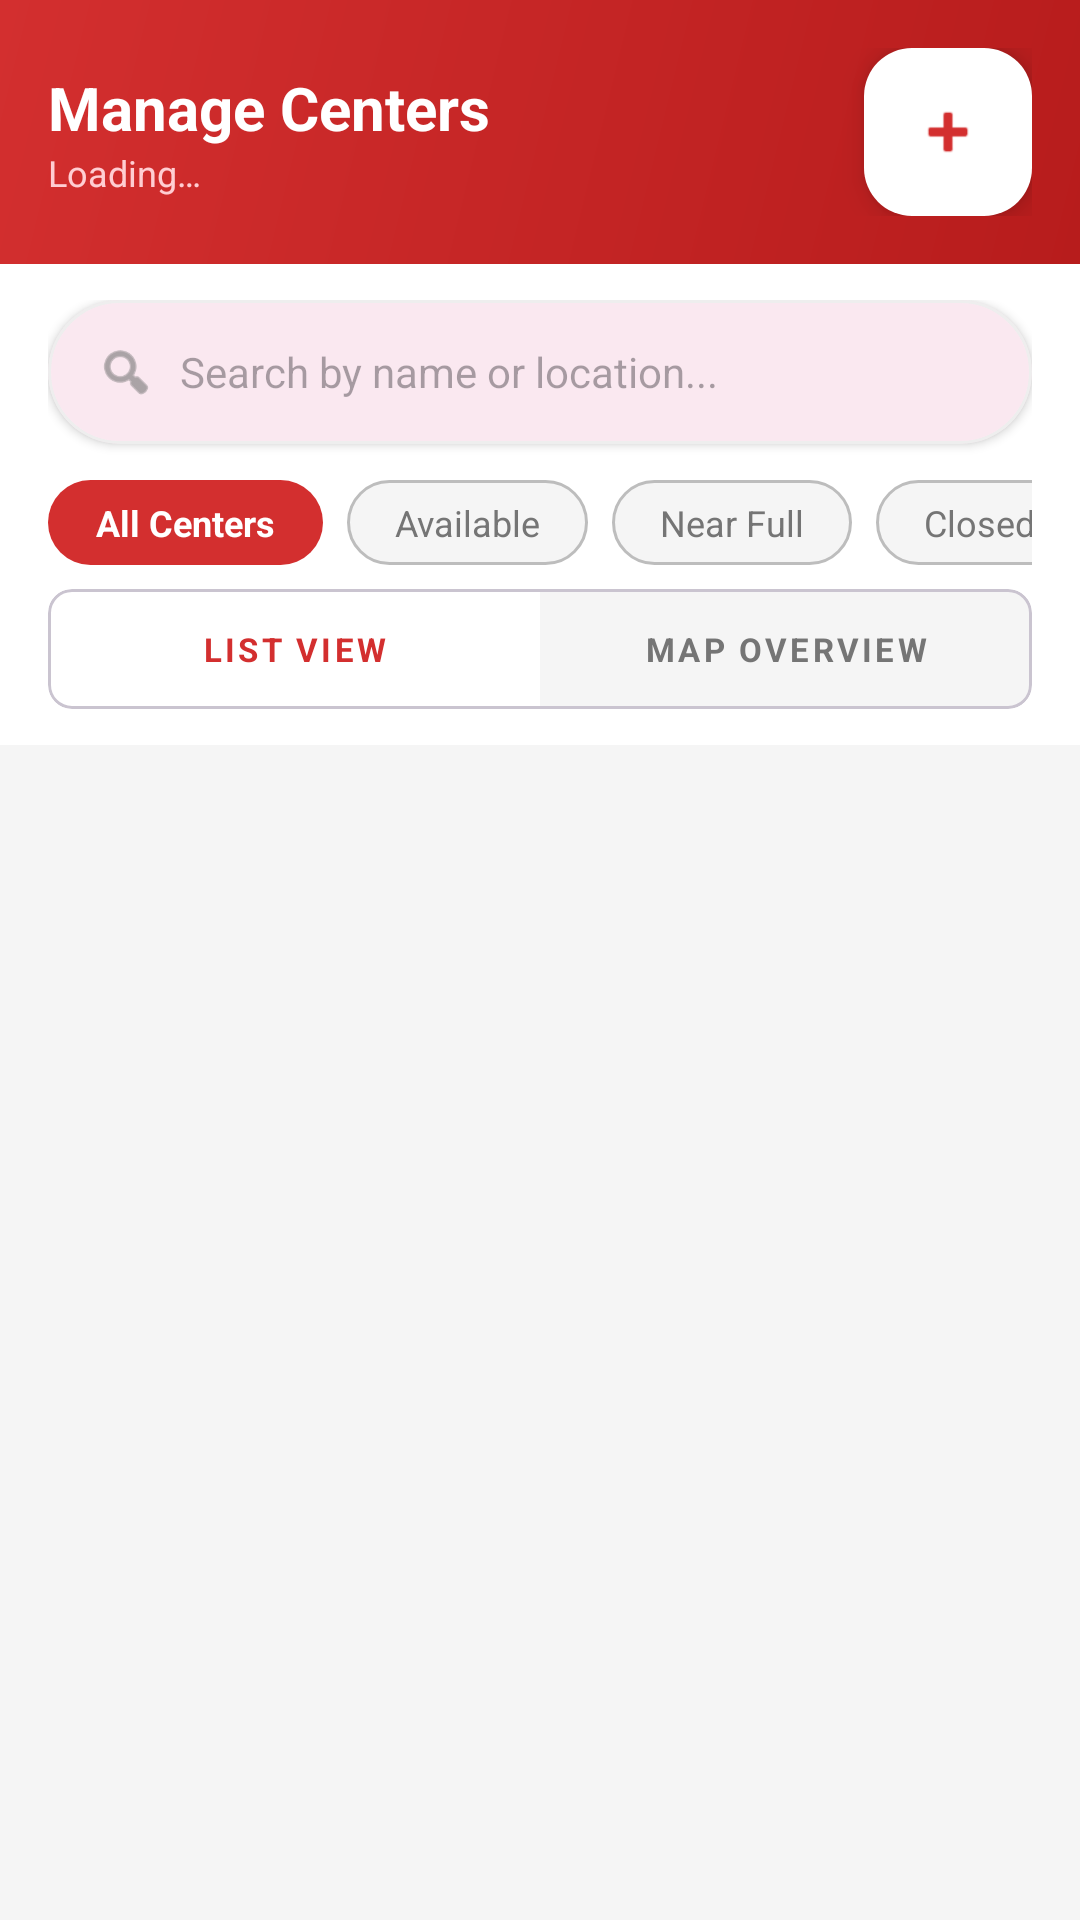

Screen size 1080 x 1920. Icon name, then its box in pixels as (x1, y1, x2, y2):
Add Center: (864, 48, 1032, 216)
